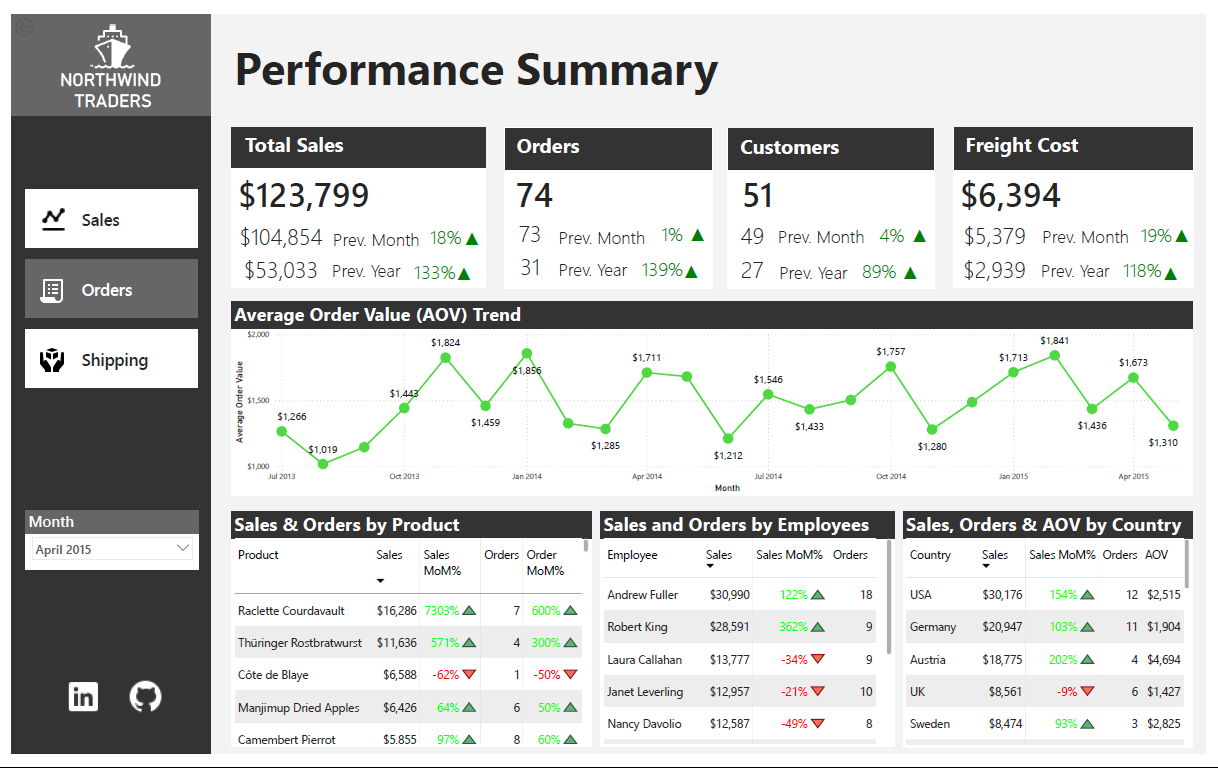

What the dashboard file says about the page in this screenshot:
{"tool":"powerbi","page":{"name":"Orders","canvas":[1920,1188],"ordinal":1},"visuals":[{"type":"shape","box":[0,162.3,320.3,1088.5],"z":0},{"type":"shape","box":[0,0,320.3,162.3],"z":1000},{"type":"textbox","box":[353,28.9,856.8,117.7],"z":2000},{"type":"slicer","title":"Month","fields":{"Values":["DimDate.Date (bins)"]},"box":[21.6,798.5,279.1,93],"z":3000},{"type":"lineChart","title":"Average Order Value (AOV) Trend","fields":{"Category":["DimDate.Date (bins)"],"Y":["measure_table.AOV"]},"box":[352.7,461.2,1546.3,313],"z":4000},{"type":"tableEx","title":"Sales, Orders & AOV by Country","fields":{"Values":["customers.country","measure_table.sales total","measure_table.sales MoM%","measure_table.order total","measure_table.AOV"]},"box":[1433.7,798.7,466.1,380.5],"z":5000},{"type":"tableEx","title":"Sales & Orders by Product","fields":{"Values":["products.productName","measure_table.sales total","measure_table.sales MoM%","measure_table.order total","measure_table.order MoM%"]},"box":[352.8,798.7,580,378],"z":6000},{"type":"tableEx","title":"Sales and Orders by Employees","fields":{"Values":["employees.employeeName","measure_table.sales total","measure_table.sales MoM%","measure_table.order total"]},"box":[947.4,798.7,473.7,378],"z":7000},{"type":"image","box":[60.6,1060.3,108.2,73.6],"z":8000},{"type":"image","box":[160.1,1060.3,110.4,73.6],"z":9000},{"type":"pageNavigator","title":"Menu","box":[22,281,277,320],"z":10000},{"type":"image","box":[17.6,526.6,93.2,58],"z":11000},{"type":"image","box":[99.5,10.8,123.3,80.1],"z":12000},{"type":"textbox","box":[26,83,272.7,75.7],"z":13000},{"type":"image","box":[17.6,415.7,93.2,58],"z":14000},{"type":"image","box":[20.2,299.8,93.2,58],"z":15000},{"type":"actionButton","box":[0,0,100,40],"z":16000},{"type":"shape","box":[352.5,181,409.5,257.1],"z":17000},{"type":"shape","box":[792.2,181.1,335,258.6],"z":18000},{"type":"shape","box":[1152,182.8,333,258.6],"z":19000},{"type":"shape","box":[1514.8,181,386,257.7],"z":20000},{"type":"card","fields":{"Values":["measure_table.sales total"]},"box":[350.7,241.2,235.9,90.9],"z":21000},{"type":"card","fields":{"Values":["measure_table.order total"]},"box":[785.5,244.5,110.4,82.2],"z":22000},{"type":"card","fields":{"Values":["measure_table.customer total"]},"box":[1157.7,253.2,84.4,67.1],"z":23000},{"type":"shape","box":[353.2,180.8,408.8,64],"z":24000},{"type":"shape","box":[794.3,182.8,331.1,65.6],"z":25000},{"type":"shape","box":[1152.8,183,330.5,64.9],"z":26000},{"type":"shape","box":[1517.2,181.1,382.8,68],"z":27000},{"type":"textbox","box":[807.2,181.9,260.1,64],"z":28000},{"type":"textbox","box":[1167.1,183.5,260.1,64],"z":29000},{"type":"textbox","box":[369.7,180.8,260.1,64],"z":30000},{"type":"textbox","box":[1528.8,181.5,260.1,64],"z":31000},{"type":"card","fields":{"Values":["measure_table.MoM% Sales"]},"box":[649.3,319.2,97.4,75.7],"z":32000},{"type":"card","fields":{"Values":["measure_table.Icon 1"]},"box":[718.6,343,43.3,32.5],"z":33000},{"type":"card","fields":{"Values":["measure_table.PreviousMonthnetprice"]},"box":[348.6,327.8,168.8,56.3],"z":34000},{"type":"card","fields":{"Values":["measure_table.order MoM%"]},"box":[1023.5,318.1,77.9,69.2],"z":35000},{"type":"card","fields":{"Values":["measure_table.order Icon 1"]},"box":[1082,335.4,43.3,34.6],"z":36000},{"type":"card","fields":{"Values":["measure_table.order PreviousMonth"]},"box":[798.5,324.6,71.4,54.1],"z":37000},{"type":"card","fields":{"Values":["measure_table.customer MoM%"]},"box":[1376.3,322.4,80.1,62.8],"z":38000},{"type":"card","fields":{"Values":["measure_table.customer Icon 1"]},"box":[1439,337.6,43.3,32.5],"z":39000},{"type":"card","fields":{"Values":["measure_table.customer PreviousMonth"]},"box":[1146.9,328.9,88.7,49.8],"z":40000},{"type":"card","fields":{"Values":["measure_table.Text"]},"box":[503.7,340.6,165.2,43.4],"z":41000},{"type":"card","fields":{"Values":["measure_table.Text"]},"box":[865,332.4,169.3,51.6],"z":42000},{"type":"card","fields":{"Values":["measure_table.Text"]},"box":[1216,332.4,173.4,49.5],"z":43000},{"type":"card","fields":{"Values":["measure_table.freight total"]},"box":[1523.4,246.7,166.6,80.1],"z":44000},{"type":"card","fields":{"Values":["measure_table.freight MoM%"]},"box":[1796.1,320.3,90.9,67.1],"z":45000},{"type":"card","fields":{"Values":["measure_table.freight Icon 1"]},"box":[1861,337.6,43.3,34.6],"z":46000},{"type":"card","fields":{"Values":["measure_table.freight PreviousMonth"]},"box":[1510.4,326.8,142.8,56.3],"z":47000},{"type":"card","fields":{"Values":["measure_table.Text"]},"box":[1645.4,332.4,165.2,49.5],"z":48000},{"type":"card","fields":{"Values":["measure_table.sales PreviousYear"]},"box":[357.2,381.9,151.5,54.1],"z":49000},{"type":"card","fields":{"Values":["measure_table.Text 2"]},"box":[487.9,386.7,164.6,51.6],"z":50000},{"type":"card","fields":{"Values":["measure_table.Text 2"]},"box":[852.8,382.8,164.6,53.5],"z":51000},{"type":"card","fields":{"Values":["measure_table.Text 2"]},"box":[1207.8,388.7,164.6,51.6],"z":52000},{"type":"card","fields":{"Values":["measure_table.Text 2"]},"box":[1628.3,386.7,166.6,51.6],"z":53000},{"type":"card","fields":{"Values":["measure_table.order PreviousYear"]},"box":[798.5,376.5,71.4,54.1],"z":54000},{"type":"card","fields":{"Values":["measure_table.customer PreviousYear"]},"box":[1146.9,385.2,88.7,49.8],"z":55000},{"type":"card","fields":{"Values":["measure_table.freight PreviousYear"]},"box":[1510.4,380.9,142.8,56.3],"z":56000},{"type":"card","fields":{"Values":["measure_table.sales YoY Icon"]},"box":[705.6,399.2,43.3,32.5],"z":57000},{"type":"card","fields":{"Values":["measure_table.freight YoY Icon"]},"box":[1842.9,399.1,43.3,32.5],"z":58000},{"type":"card","fields":{"Values":["measure_table.customer YoY Icon"]},"box":[1424,398.6,43.6,31.7],"z":59000},{"type":"card","fields":{"Values":["measure_table.order YoY Icon"]},"box":[1071.5,396.9,43.3,32.5],"z":60000},{"type":"card","fields":{"Values":["measure_table.sales YoY%"]},"box":[640.8,375,78.9,76.3],"z":61000},{"type":"card","fields":{"Values":["measure_table.order YoY%"]},"box":[1007.5,370.9,77.3,75.4],"z":62000},{"type":"card","fields":{"Values":["measure_table.customer YoY%"]},"box":[1356.6,374.8,77.3,75.4],"z":63000},{"type":"card","fields":{"Values":["measure_table.freight YoY%"]},"box":[1780.2,373.1,77.9,75.7],"z":64000}]}

Visuals, with their boxes on the page's 1920x1188 design canvas (x1, y1, x2, y2). These are canvas units, not pixel positions in the 1218x768 screenshot, which may show the page scaled, cropped or inside an application window:
shape: (x1=0, y1=162, x2=320, y2=1251)
shape: (x1=0, y1=0, x2=320, y2=162)
textbox: (x1=353, y1=29, x2=1210, y2=147)
"Month" slicer: (x1=22, y1=798, x2=301, y2=892)
"Average Order Value (AOV) Trend" lineChart: (x1=353, y1=461, x2=1899, y2=774)
"Sales, Orders & AOV by Country" tableEx: (x1=1434, y1=799, x2=1900, y2=1179)
"Sales & Orders by Product" tableEx: (x1=353, y1=799, x2=933, y2=1177)
"Sales and Orders by Employees" tableEx: (x1=947, y1=799, x2=1421, y2=1177)
image: (x1=61, y1=1060, x2=169, y2=1134)
image: (x1=160, y1=1060, x2=270, y2=1134)
"Menu" pageNavigator: (x1=22, y1=281, x2=299, y2=601)
image: (x1=18, y1=527, x2=111, y2=585)
image: (x1=100, y1=11, x2=223, y2=91)
textbox: (x1=26, y1=83, x2=299, y2=159)
image: (x1=18, y1=416, x2=111, y2=474)
image: (x1=20, y1=300, x2=113, y2=358)
actionButton: (x1=0, y1=0, x2=100, y2=40)
shape: (x1=352, y1=181, x2=762, y2=438)
shape: (x1=792, y1=181, x2=1127, y2=440)
shape: (x1=1152, y1=183, x2=1485, y2=441)
shape: (x1=1515, y1=181, x2=1901, y2=439)
card - measure_table.sales total: (x1=351, y1=241, x2=587, y2=332)
card - measure_table.order total: (x1=786, y1=244, x2=896, y2=327)
card - measure_table.customer total: (x1=1158, y1=253, x2=1242, y2=320)
shape: (x1=353, y1=181, x2=762, y2=245)
shape: (x1=794, y1=183, x2=1125, y2=248)
shape: (x1=1153, y1=183, x2=1483, y2=248)
shape: (x1=1517, y1=181, x2=1900, y2=249)
textbox: (x1=807, y1=182, x2=1067, y2=246)
textbox: (x1=1167, y1=184, x2=1427, y2=248)
textbox: (x1=370, y1=181, x2=630, y2=245)
textbox: (x1=1529, y1=182, x2=1789, y2=246)
card - measure_table.MoM% Sales: (x1=649, y1=319, x2=747, y2=395)
card - measure_table.Icon 1: (x1=719, y1=343, x2=762, y2=376)
card - measure_table.PreviousMonthnetprice: (x1=349, y1=328, x2=517, y2=384)
card - measure_table.order MoM%: (x1=1024, y1=318, x2=1101, y2=387)
card - measure_table.order Icon 1: (x1=1082, y1=335, x2=1125, y2=370)
card - measure_table.order PreviousMonth: (x1=798, y1=325, x2=870, y2=379)
card - measure_table.customer MoM%: (x1=1376, y1=322, x2=1456, y2=385)
card - measure_table.customer Icon 1: (x1=1439, y1=338, x2=1482, y2=370)
card - measure_table.customer PreviousMonth: (x1=1147, y1=329, x2=1236, y2=379)
card - measure_table.Text: (x1=504, y1=341, x2=669, y2=384)
card - measure_table.Text: (x1=865, y1=332, x2=1034, y2=384)
card - measure_table.Text: (x1=1216, y1=332, x2=1389, y2=382)
card - measure_table.freight total: (x1=1523, y1=247, x2=1690, y2=327)
card - measure_table.freight MoM%: (x1=1796, y1=320, x2=1887, y2=387)
card - measure_table.freight Icon 1: (x1=1861, y1=338, x2=1904, y2=372)
card - measure_table.freight PreviousMonth: (x1=1510, y1=327, x2=1653, y2=383)
card - measure_table.Text: (x1=1645, y1=332, x2=1811, y2=382)
card - measure_table.sales PreviousYear: (x1=357, y1=382, x2=509, y2=436)
card - measure_table.Text 2: (x1=488, y1=387, x2=652, y2=438)
card - measure_table.Text 2: (x1=853, y1=383, x2=1017, y2=436)
card - measure_table.Text 2: (x1=1208, y1=389, x2=1372, y2=440)
card - measure_table.Text 2: (x1=1628, y1=387, x2=1795, y2=438)
card - measure_table.order PreviousYear: (x1=798, y1=376, x2=870, y2=431)
card - measure_table.customer PreviousYear: (x1=1147, y1=385, x2=1236, y2=435)
card - measure_table.freight PreviousYear: (x1=1510, y1=381, x2=1653, y2=437)
card - measure_table.sales YoY Icon: (x1=706, y1=399, x2=749, y2=432)
card - measure_table.freight YoY Icon: (x1=1843, y1=399, x2=1886, y2=432)
card - measure_table.customer YoY Icon: (x1=1424, y1=399, x2=1468, y2=430)
card - measure_table.order YoY Icon: (x1=1072, y1=397, x2=1115, y2=429)
card - measure_table.sales YoY%: (x1=641, y1=375, x2=720, y2=451)
card - measure_table.order YoY%: (x1=1008, y1=371, x2=1085, y2=446)
card - measure_table.customer YoY%: (x1=1357, y1=375, x2=1434, y2=450)
card - measure_table.freight YoY%: (x1=1780, y1=373, x2=1858, y2=449)
